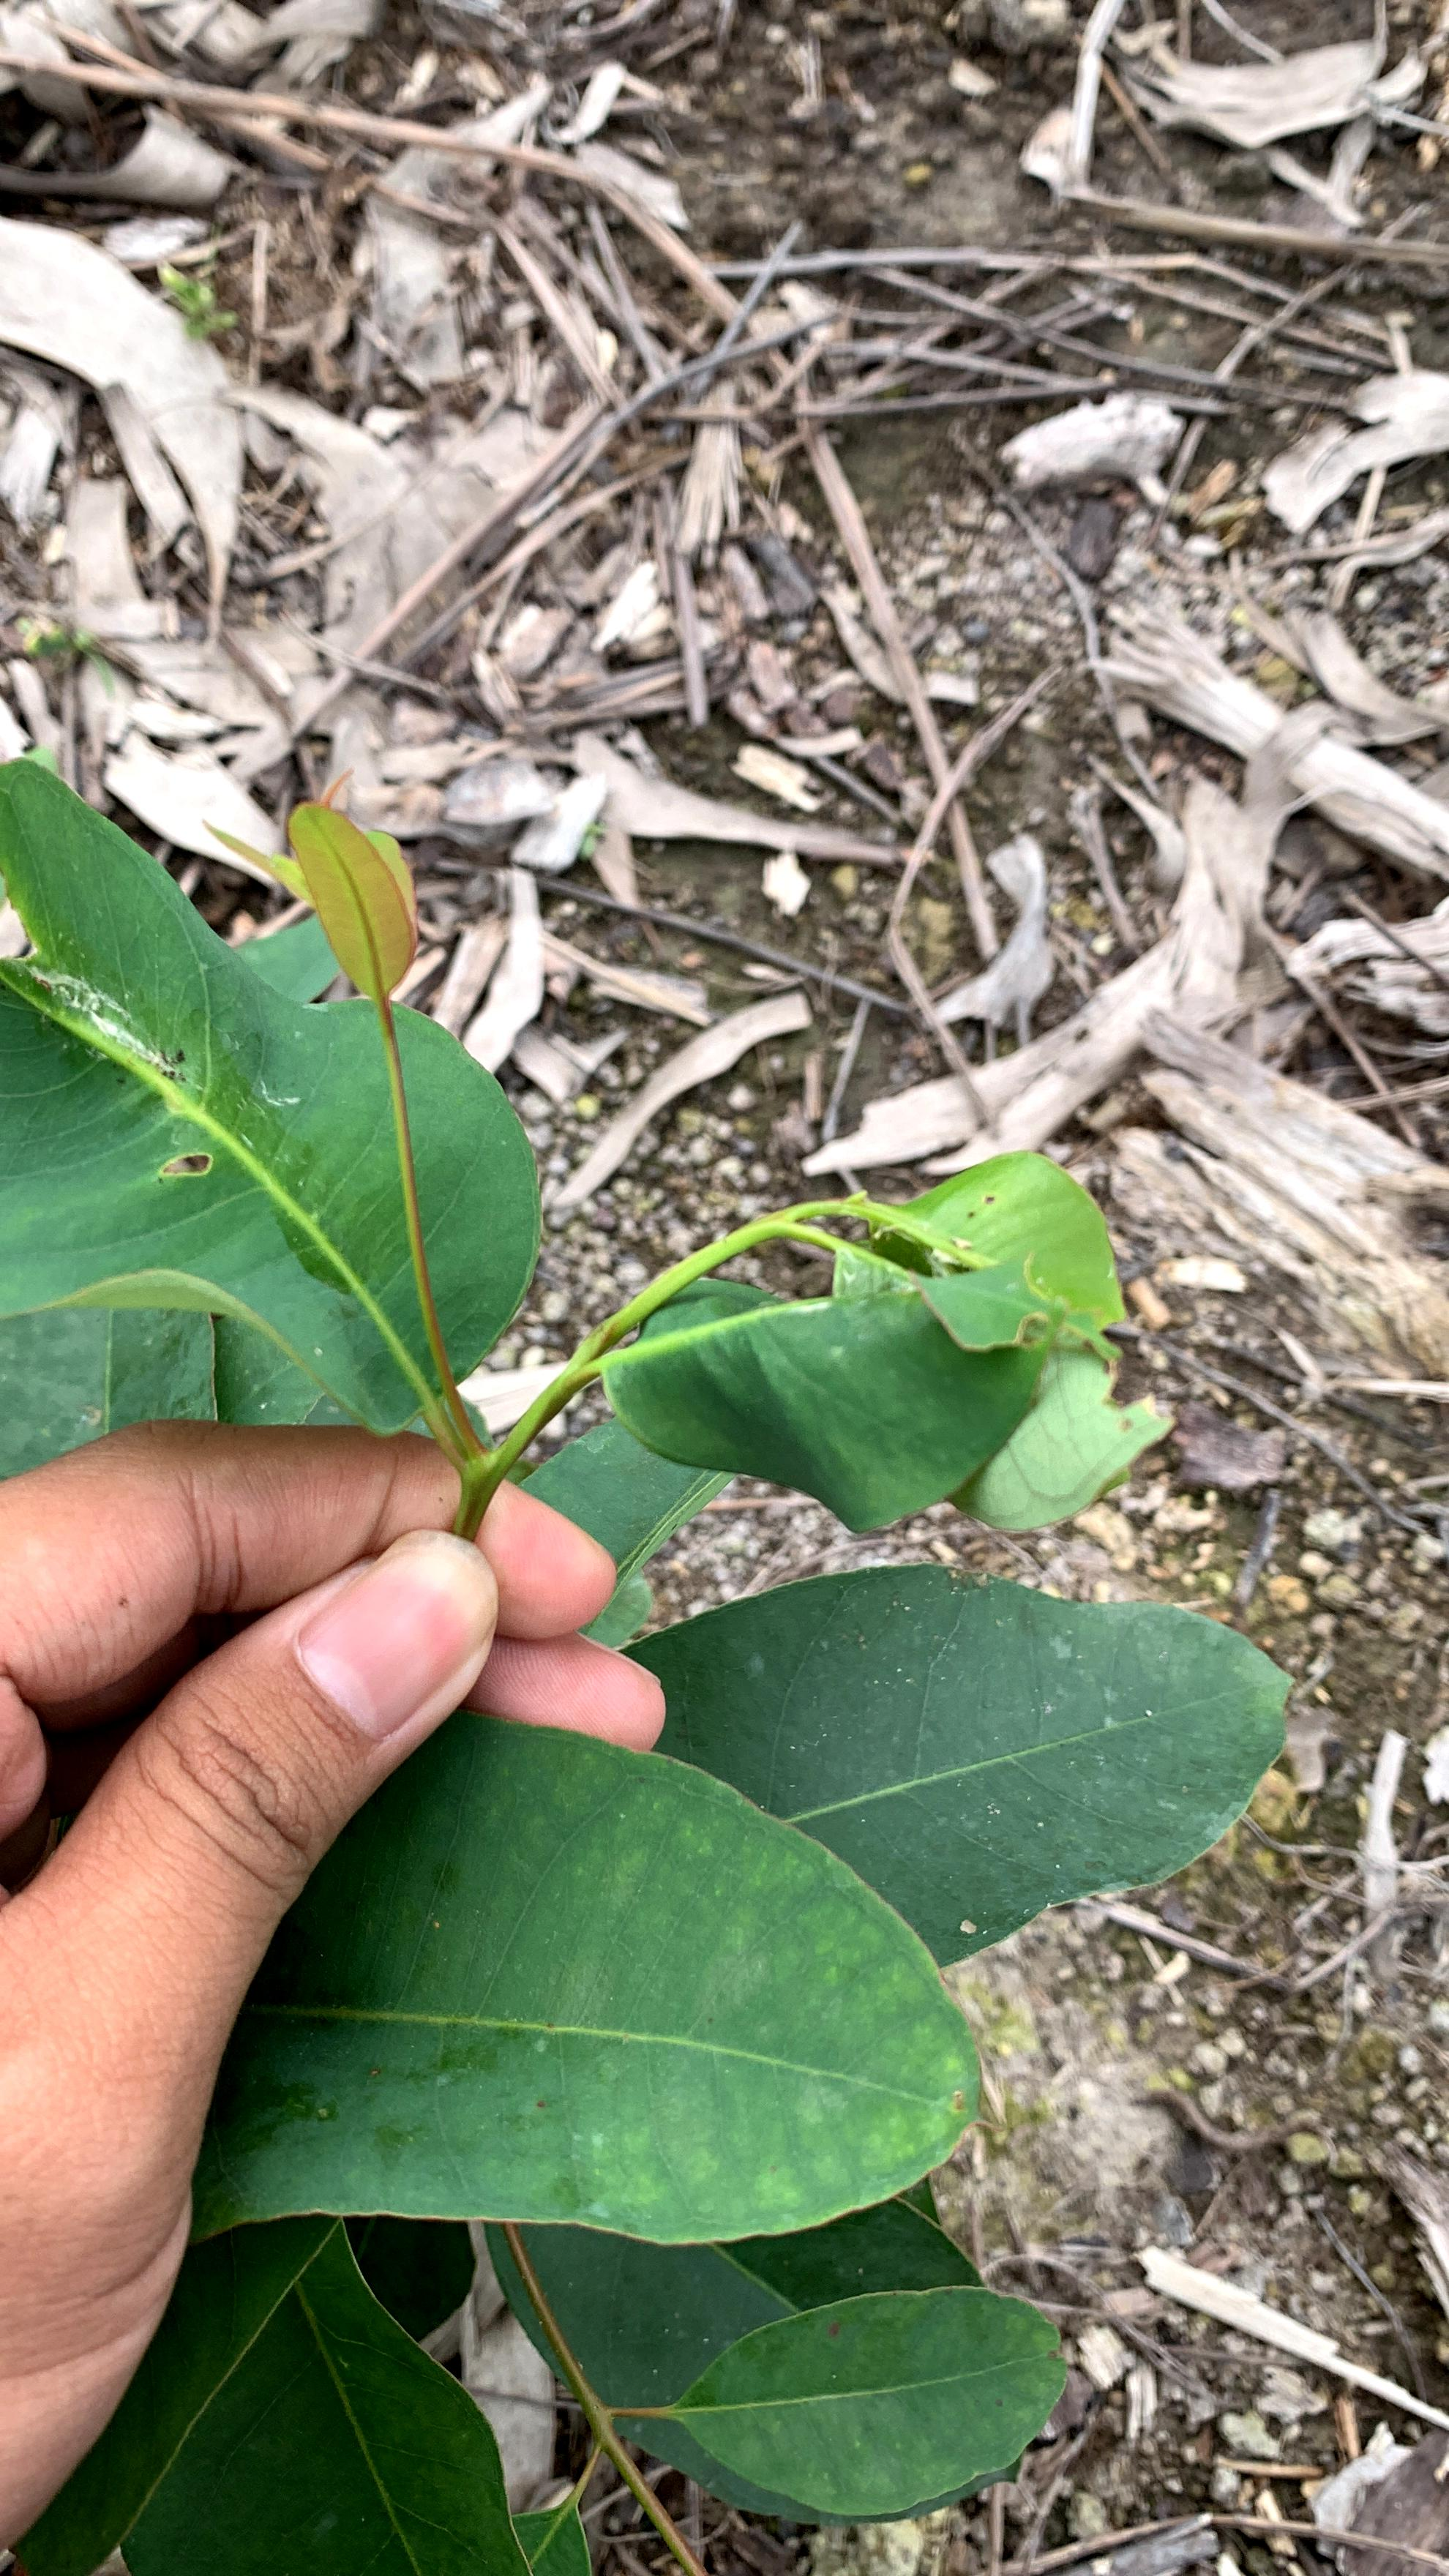Leaf Roller - Leaf: (653, 1131, 1185, 1530)
